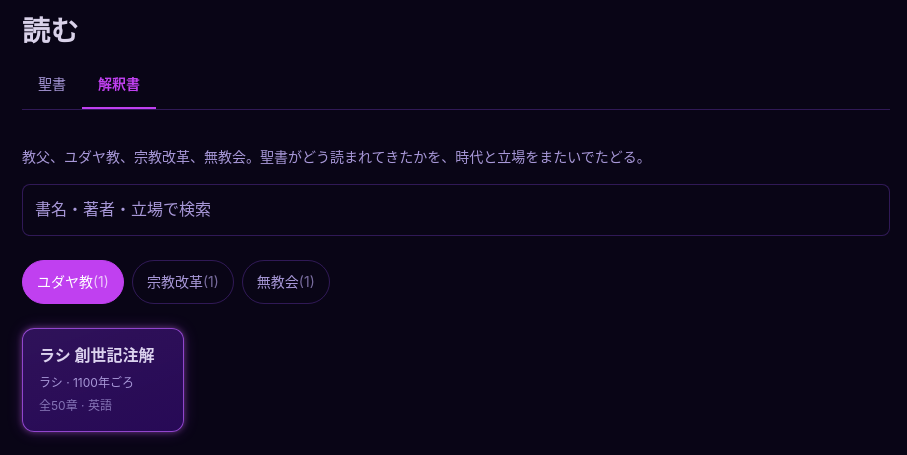
Test case: 「読む」の解釈書タブ › 立場のチップで絞り、最初は一番古い立場の本を出す
This screenshot has width=907, height=455.
Check: the button "ユダヤ教 (1)" is shown, box x1=22 y1=260 x2=124 y2=304
Check: the link "ラシ 創世記注解 ラシ · 1100年ごろ 全50章 · 英語" is shown, box x1=22 y1=328 x2=184 y2=432
Click the button "無教会 (1)" at x=286, y=282, box x1=242 y1=260 x2=330 y2=304
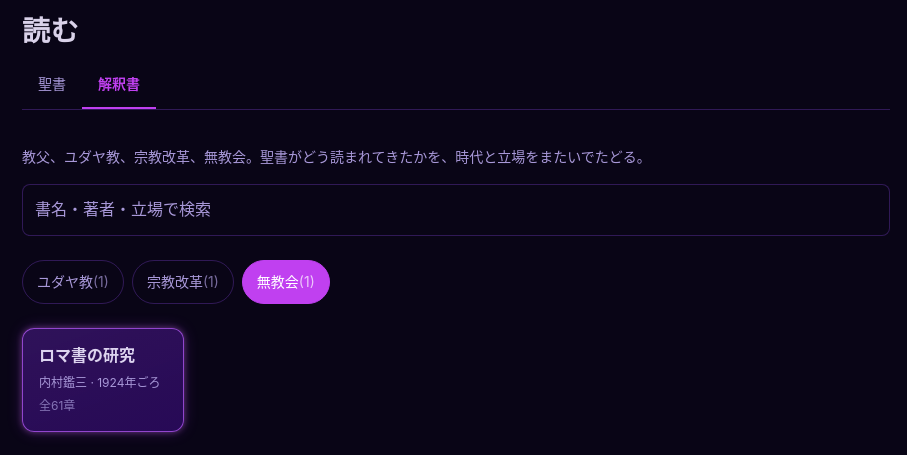
Check: the link "ロマ書の研究 内村鑑三 · 1924年ごろ 全61章" does not show "日本語", box x1=22 y1=328 x2=184 y2=432
Check: the link "ラシ" is gone
